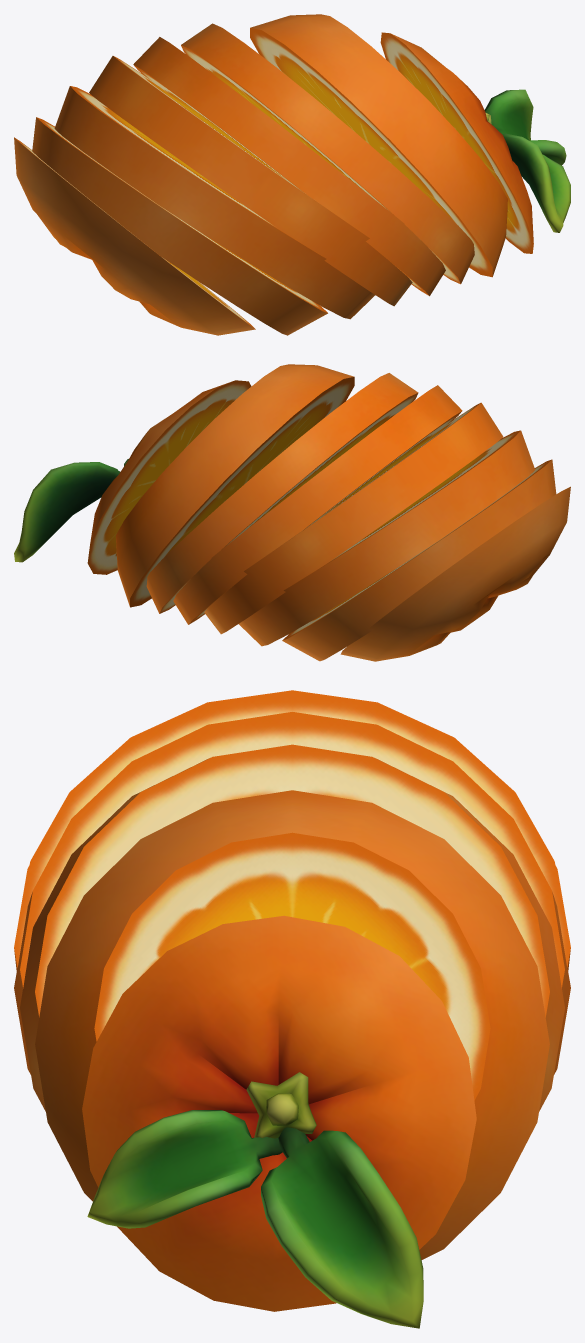
Rendered from m_slice_orange_01.fbx.
3 views of the same model, one above another, from view 1: azimuth 30°, elevation 25°; view 2: azimuth 150°, elevation 25°; view 3: azimuth 270°, elevation 25° (orthographic). The views are drawn at different scales.
Visible parts, largest first — view 1: Orange__sliced_static; view 2: Orange__sliced_static; view 3: Orange__sliced_static.
Boxes of the visible parts, box(x1,y1,x2,y2) form: Orange__sliced_static: box(14, 14, 570, 335); Orange__sliced_static: box(14, 364, 570, 661); Orange__sliced_static: box(14, 690, 570, 1328).
Bounding box in the file's own units: 129 × 63.57 × 78.56.
Materials: 1 (1 with a texture image).
